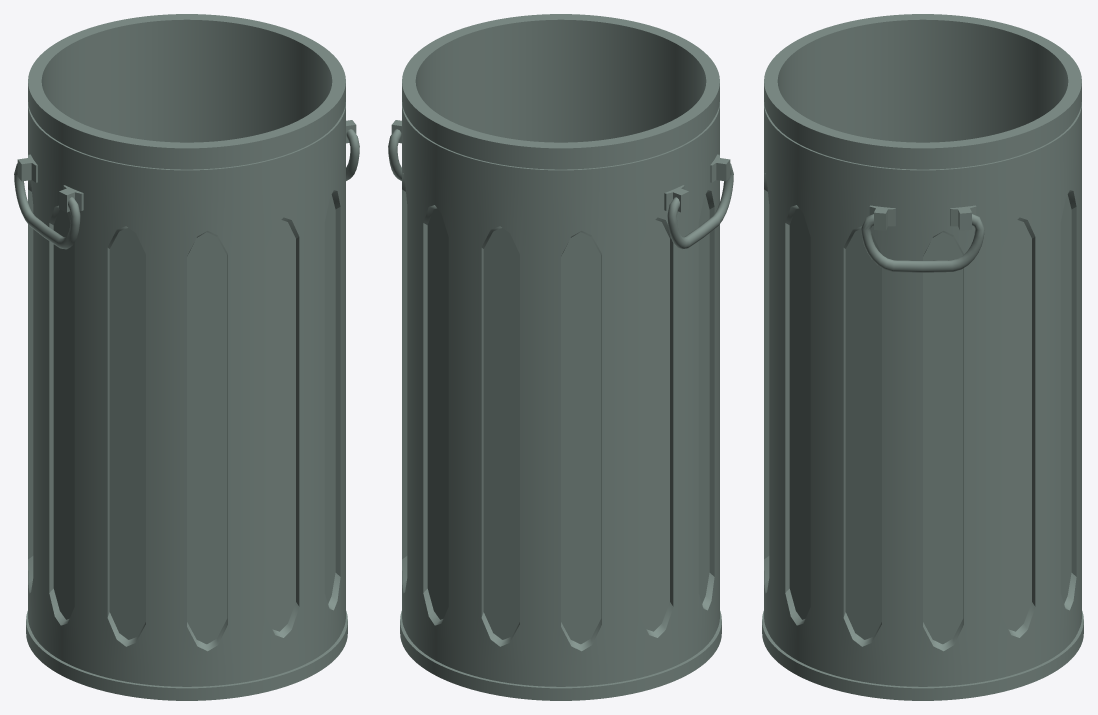
Rendered from bin_block_body.glb.
3 views of the same model, side by side, from view 1: azimuth 30°, elevation 25°; view 2: azimuth 150°, elevation 25°; view 3: azimuth 270°, elevation 25° (orthographic).
Visible parts, largest first — view 1: KOva; view 2: KOva; view 3: KOva.
Boxes of the visible parts, x1,y1,x2,y2 form: KOva: (14, 14, 359, 700); KOva: (388, 14, 733, 700); KOva: (762, 14, 1083, 700).
Bounding box in the file's own units: 0.94 × 1.69 × 0.8927.
1 material, 1 textured.
